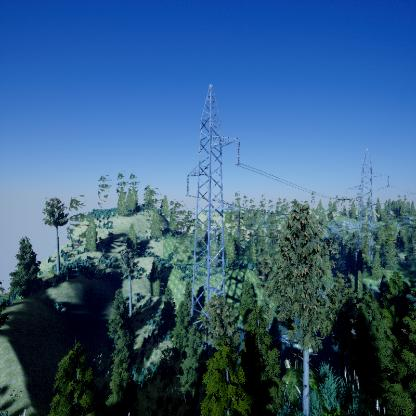tower: (182, 81, 239, 320), (343, 146, 390, 257)
